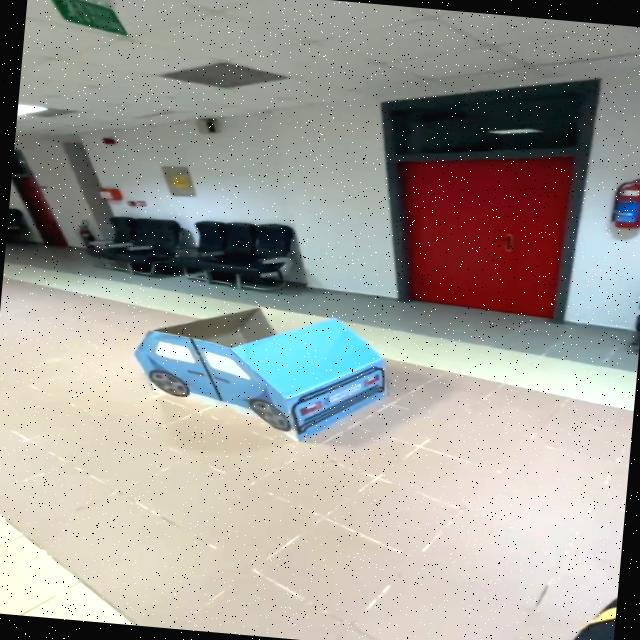blue_car: (118, 290, 412, 456)
